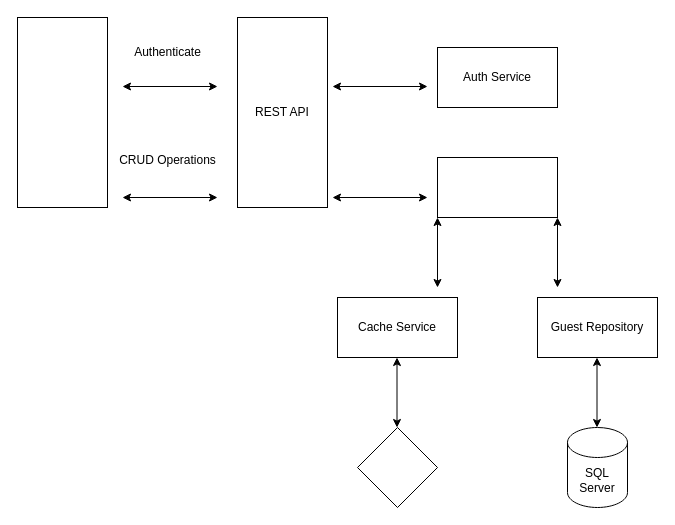
The diagram is 675 pixels wide and 525 high, and some of its shapes have lost their labels. Here are the shapes that lost their labels. From the top down, the centre of each, then its label:
the point at 62,112: Client(Postman)
the point at 497,187: Guest Service
the point at 397,467: Mem Cache
